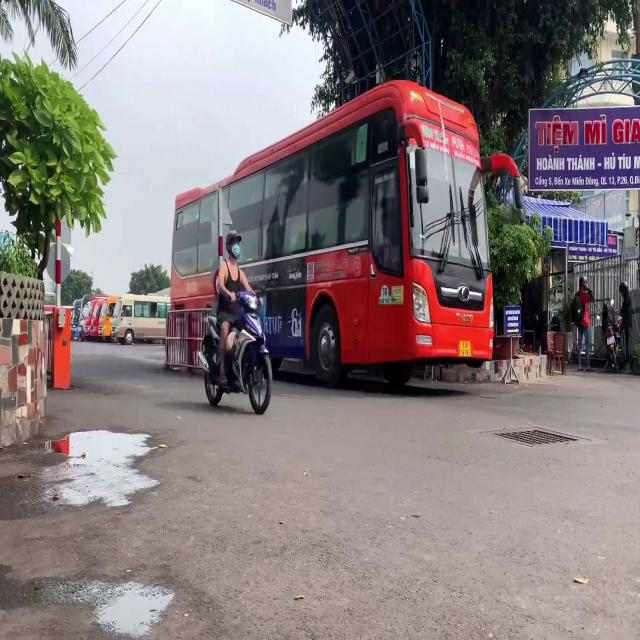bien_vang: (458, 338, 472, 358)
